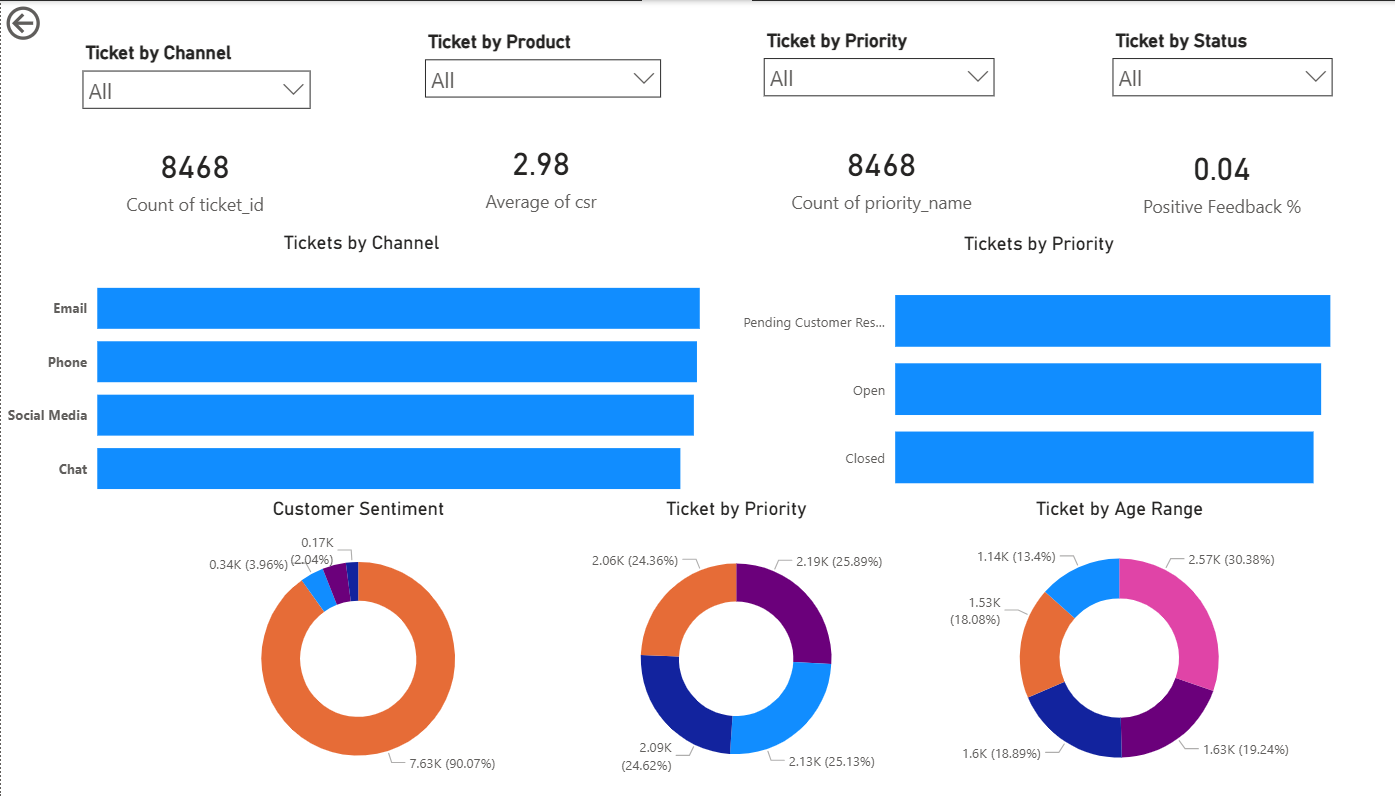

What the dashboard file says about the page in this screenshot:
{"tool":"powerbi","page":{"name":"Page 1","canvas":[1280,720],"ordinal":0},"visuals":[{"type":"card","fields":{"Values":["CountNonNull(pgadmin ticket_analysis.ticket_id)"]},"box":[50,96.2,251.2,126.2],"z":0},{"type":"card","fields":{"Values":["CountNonNull(pgadmin ticket_analysis.priority_name)"]},"box":[677.5,92.5,233.8,128.8],"z":1000},{"type":"card","fields":{"Values":["Avg(pgadmin ticket_analysis.csr)"]},"box":[363.8,88.8,246.2,133.8],"z":2000},{"type":"actionButton","box":[0,0,100,40],"z":3000},{"type":"slicer","fields":{"Values":["pgadmin ticket_analysis.channel_name"]},"box":[62.9,31.4,225.7,95.7],"z":4000},{"type":"slicer","fields":{"Values":["pgadmin ticket_analysis.product_name"]},"box":[371.4,21.4,232.9,95.7],"z":5000},{"type":"slicer","fields":{"Values":["pgadmin ticket_analysis.priority_name"]},"box":[677.1,20,228.6,95.7],"z":6000},{"type":"slicer","fields":{"Values":["pgadmin ticket_analysis.status_name"]},"box":[991.4,20,218.6,107.1],"z":7000},{"type":"card","fields":{"Values":["pgadmin ticket_analysis.Positive Feedback %"]},"box":[981.2,88.8,238.8,142.5],"z":8000},{"type":"clusteredBarChart","title":"Tickets by Channel","fields":{"Y":["CountNonNull(pgadmin ticket_analysis.ticket_id)"],"Category":["pgadmin ticket_analysis.channel_name"]},"box":[0,207.5,650,258.8],"z":9000},{"type":"clusteredBarChart","title":"Tickets by Priority","fields":{"Category":["pgadmin ticket_analysis.status_name"],"Y":["CountNonNull(pgadmin ticket_analysis.ticket_id)"]},"box":[651.2,208.8,568.8,258.8],"z":10000},{"type":"donutChart","title":"Customer Sentiment","fields":{"Category":["pgadmin ticket_analysis.feedback_sentiment"],"Y":["CountNonNull(pgadmin ticket_analysis.feedback_sentiment)"]},"box":[156.2,447.5,331.2,272.5],"z":10001},{"type":"donutChart","title":"Ticket by Priority","fields":{"Category":["pgadmin ticket_analysis.priority_name"],"Y":["CountNonNull(pgadmin ticket_analysis.ticket_id)"]},"box":[505,447.5,316.2,272.5],"z":10002},{"type":"donutChart","title":"Ticket by Age Range","fields":{"Category":["pgadmin ticket_analysis.age_range"],"Y":["CountNonNull(pgadmin ticket_analysis.ticket_id)"]},"box":[821.2,447.5,373.8,271.2],"z":10003}]}

Visuals, with their boxes in screenshot pixels (x1, y1, x2, y2), scaled from the page's 1280x720 canvas onto the 1395x797 screenshot:
card - CountNonNull(pgadmin ticket_analysis.ticket_id): <box>54,106,328,246</box>
card - CountNonNull(pgadmin ticket_analysis.priority_name): <box>738,102,993,245</box>
card - Avg(pgadmin ticket_analysis.csr): <box>396,98,665,246</box>
actionButton: <box>0,0,109,44</box>
slicer - pgadmin ticket_analysis.channel_name: <box>69,35,315,141</box>
slicer - pgadmin ticket_analysis.product_name: <box>405,24,659,130</box>
slicer - pgadmin ticket_analysis.priority_name: <box>738,22,987,128</box>
slicer - pgadmin ticket_analysis.status_name: <box>1080,22,1319,141</box>
card - pgadmin ticket_analysis.Positive Feedback %: <box>1069,98,1330,256</box>
"Tickets by Channel" clusteredBarChart: <box>0,230,708,516</box>
"Tickets by Priority" clusteredBarChart: <box>710,231,1330,518</box>
"Customer Sentiment" donutChart: <box>170,495,531,796</box>
"Ticket by Priority" donutChart: <box>550,495,895,796</box>
"Ticket by Age Range" donutChart: <box>895,495,1302,796</box>
